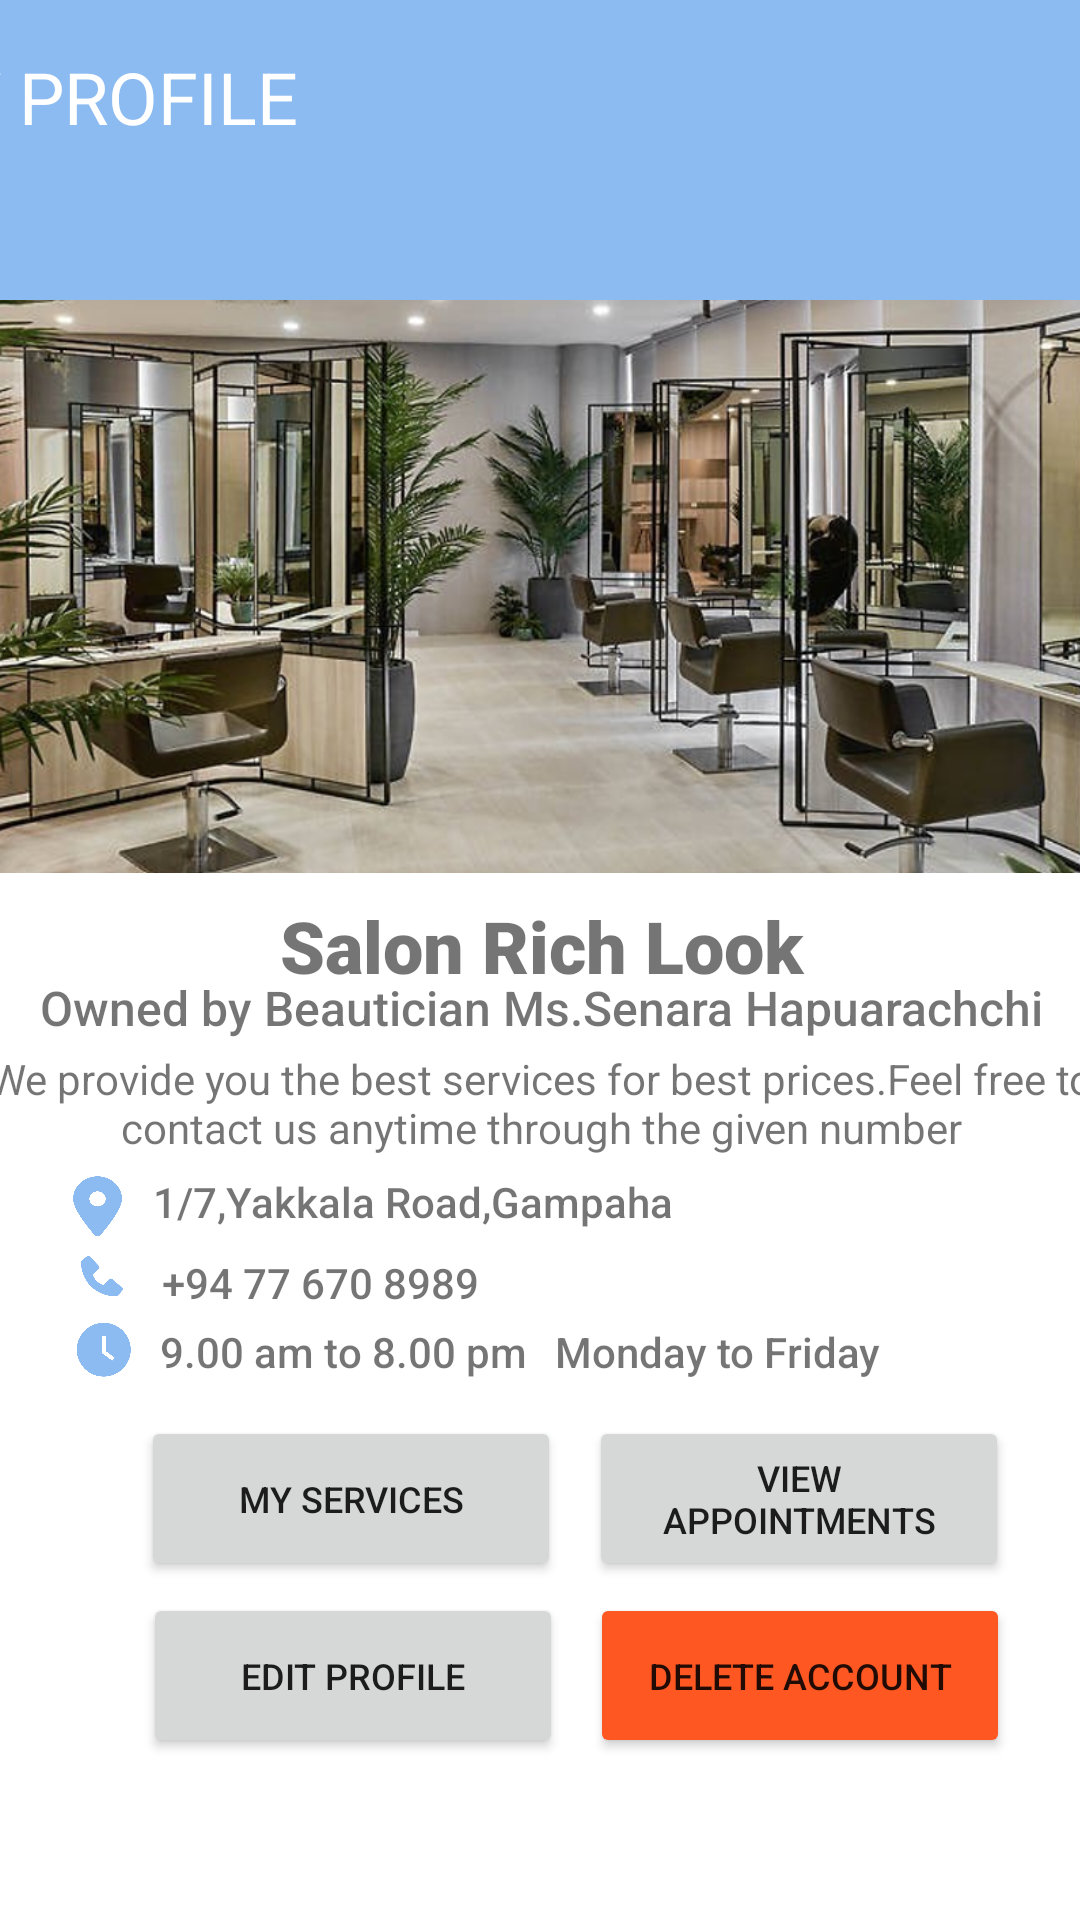

Where to tap for icons on this 1080*1920 app screen, as (x=x, y=y):
location: (x=97, y=1206)
phone: (x=102, y=1276)
time: (x=104, y=1350)
